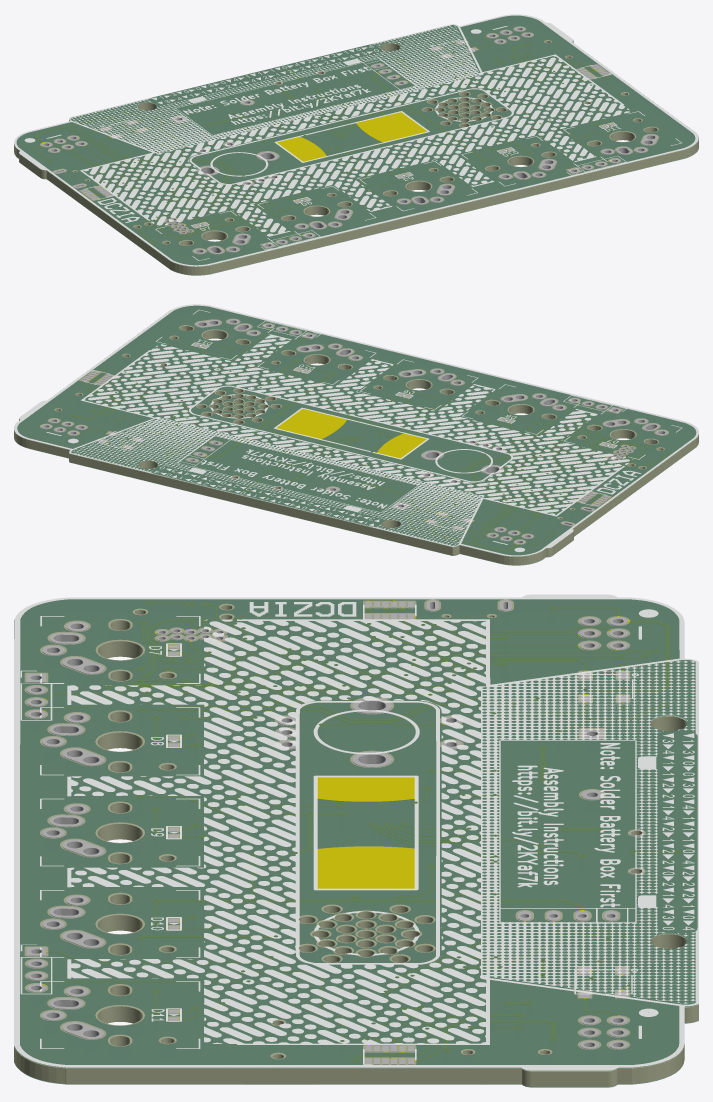
Rendered from dc-zia-laser-theremin-badge.glb.
3 views of the same model, one above another, from view 1: azimuth 30°, elevation 25°; view 2: azimuth 150°, elevation 25°; view 3: azimuth 270°, elevation 25° (orthographic). The views are drawn at different scales.
Visible parts, largest first — view 1: =>[0:1:1:7], =>[0:1:1:3]; view 2: =>[0:1:1:7], =>[0:1:1:3]; view 3: =>[0:1:1:7], =>[0:1:1:3].
Boxes of the visible parts, x1,y1,x2,y2 form: =>[0:1:1:7]: (14, 14, 698, 275); =>[0:1:1:3]: (32, 27, 657, 254); =>[0:1:1:7]: (14, 304, 698, 565); =>[0:1:1:3]: (41, 319, 670, 550); =>[0:1:1:7]: (14, 594, 698, 1087); =>[0:1:1:3]: (26, 600, 680, 1064).
Bounding box in the file's own units: 0.0994 × 0.00287 × 0.0604.
2 materials, 2 textured.
